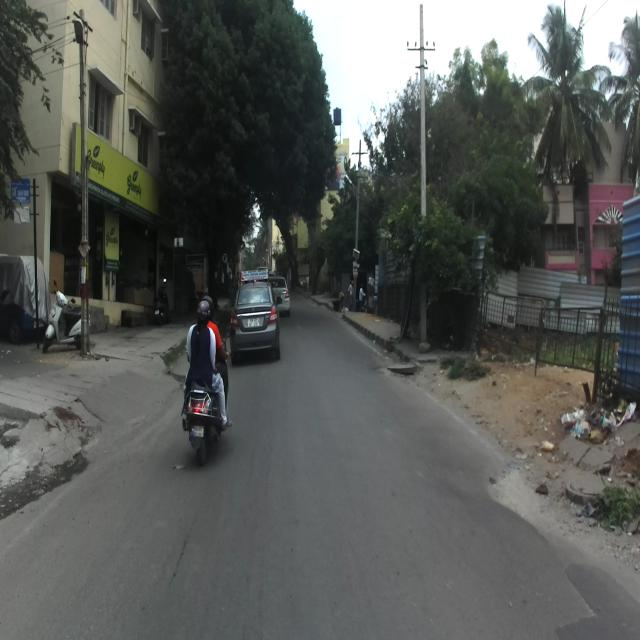car ahead at: (234, 270, 278, 358)
electric pole ahead at: (72, 9, 105, 365)
motorcycle ahead at: (176, 377, 229, 456), (42, 287, 82, 351)
